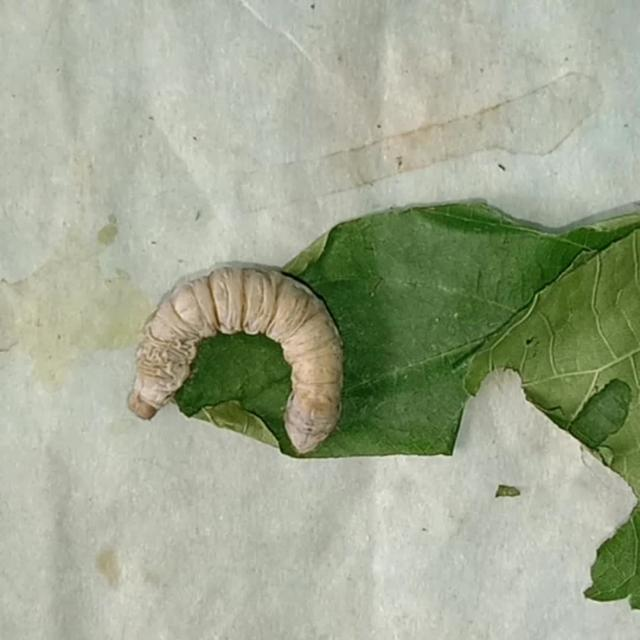Grasserie: (117, 252, 357, 467)
